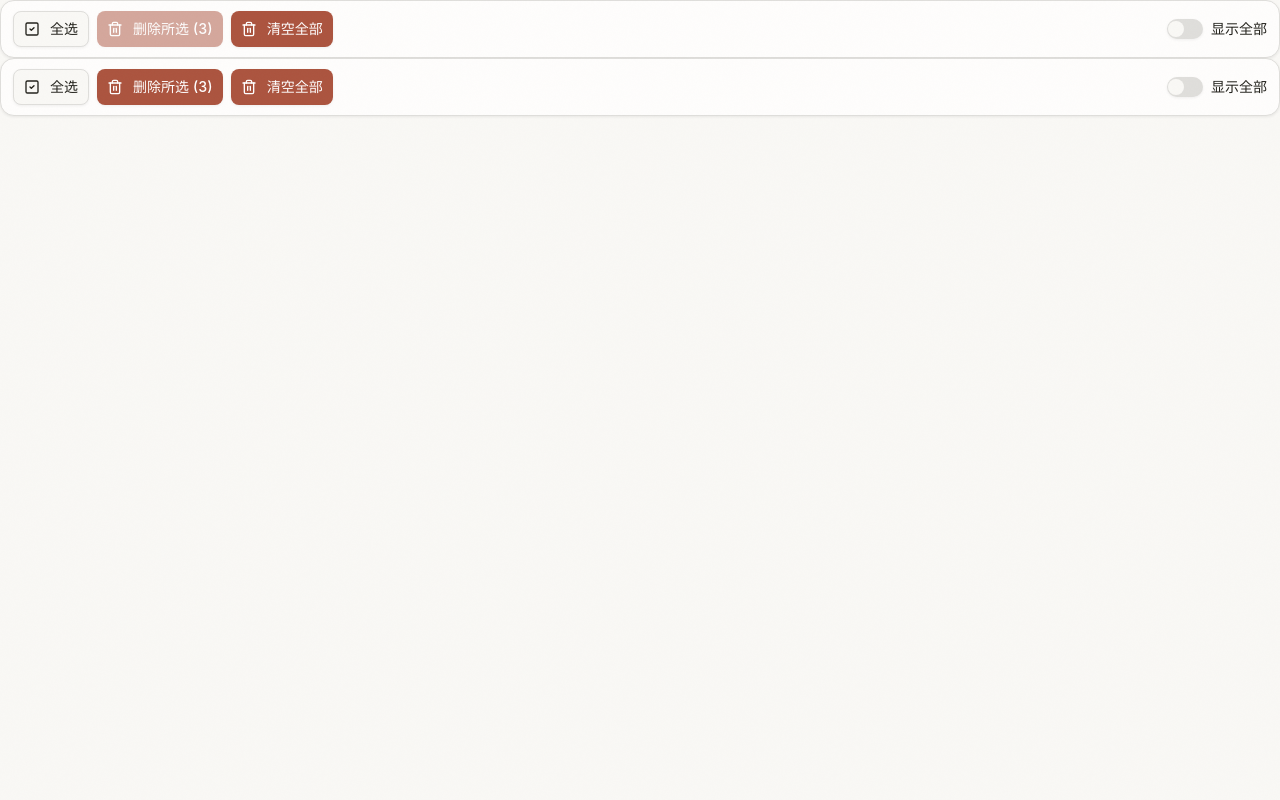
Test: LogsActionsBar 删除所选确认流程 › 删除进行中禁用触发按钮，确认按钮显示删除中且禁用
Expected: the 1st button "删除所选 (3)" is disabled, top-left (97, 11), bottom-right (223, 47)
What coordinates should you click on to do the following:
click the 2nd button "删除所选 (3)"
I would click on:
 (160, 87)
Its box is top-left (97, 69), bottom-right (223, 105).
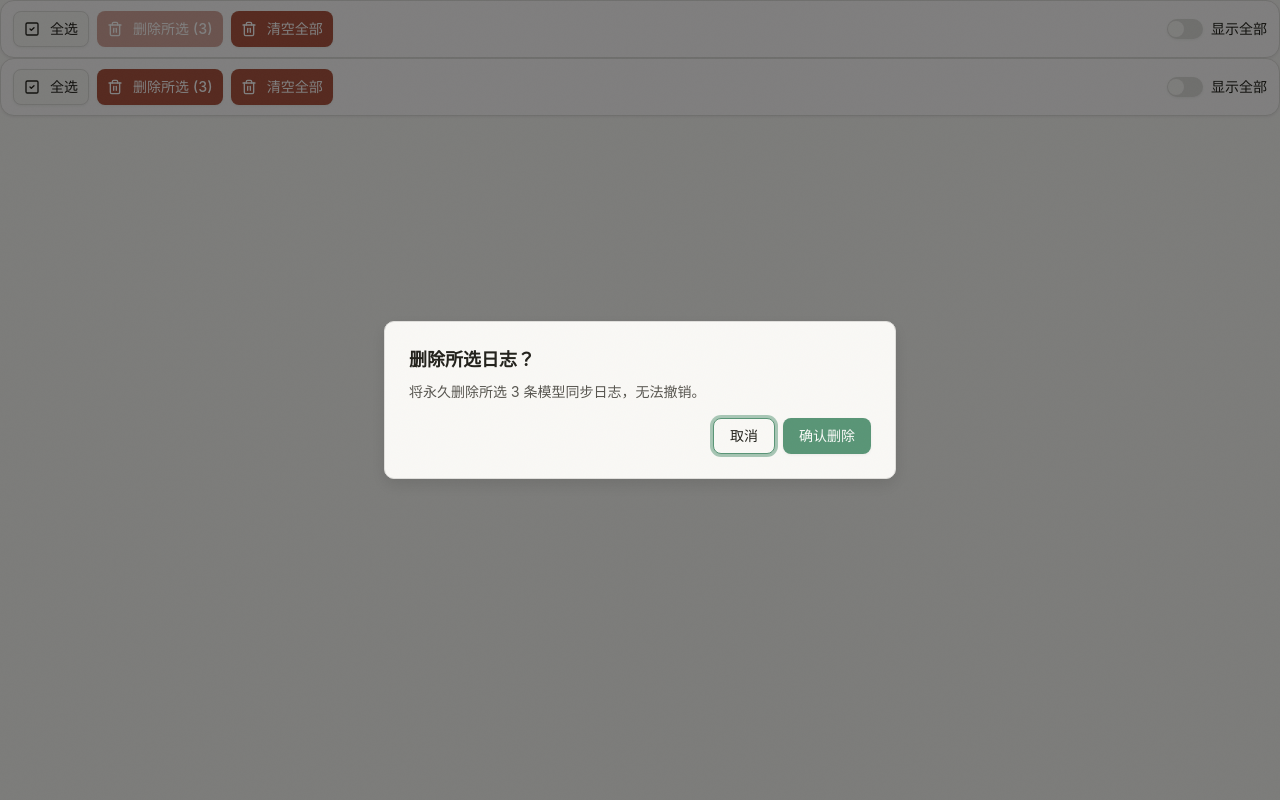
Result: the button "确认删除" is enabled at top-left (783, 418), bottom-right (871, 454)
